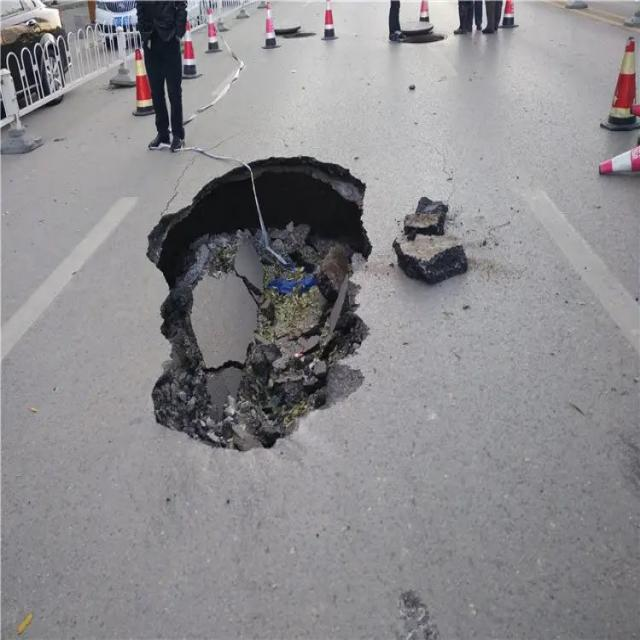Pothole: (144, 152, 376, 456)
